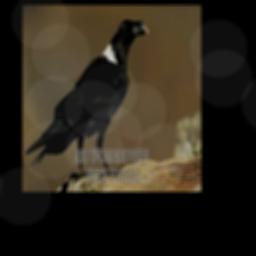Crow: (25, 19, 150, 185)
